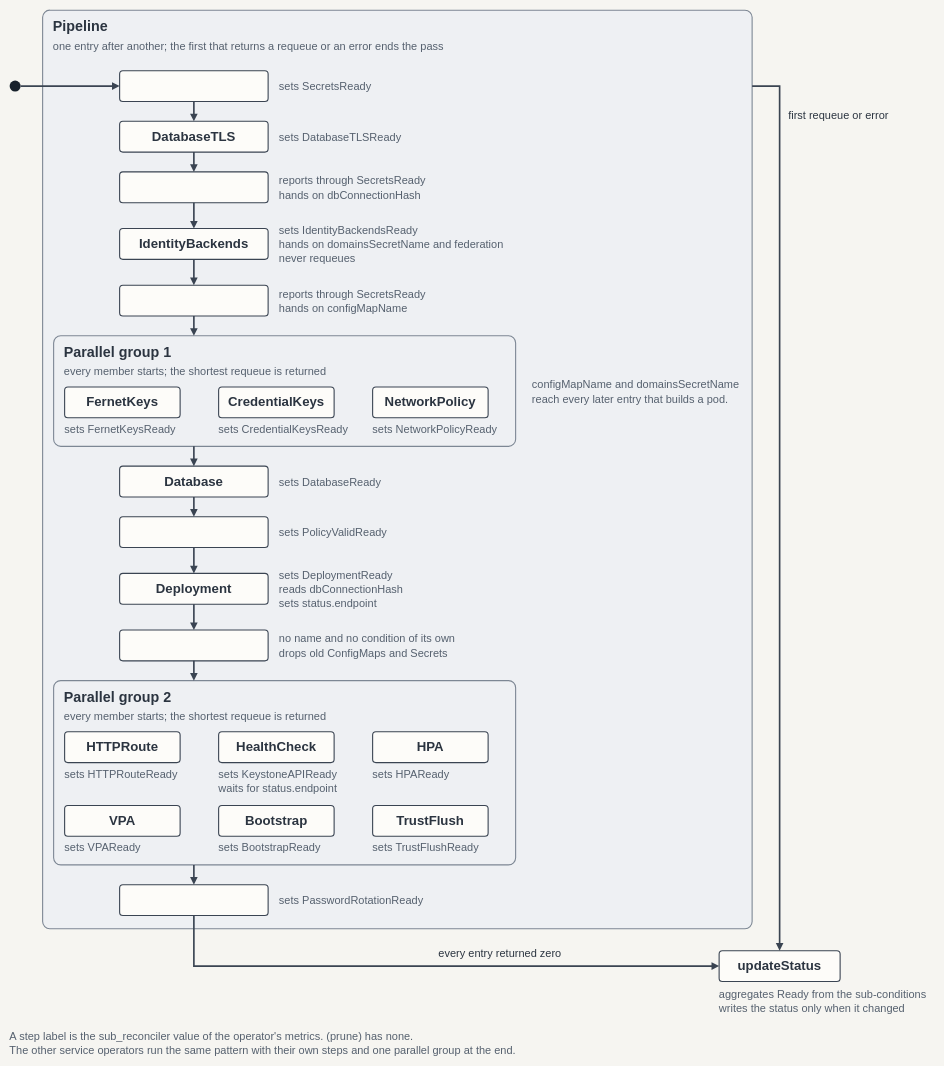
This 944x1066 diagram has some shape labels left out. The shapes that lost their labels are listed below. From the top down, each one's centre as x and y in pixels, then its label:
At [193,86]: "Secrets".
At [193,187]: "DBConnectionSecret".
At [193,300]: "Config".
At [193,532]: "PolicyValidation".
At [193,645]: "(prune)".
At [193,900]: "PasswordRotation".
